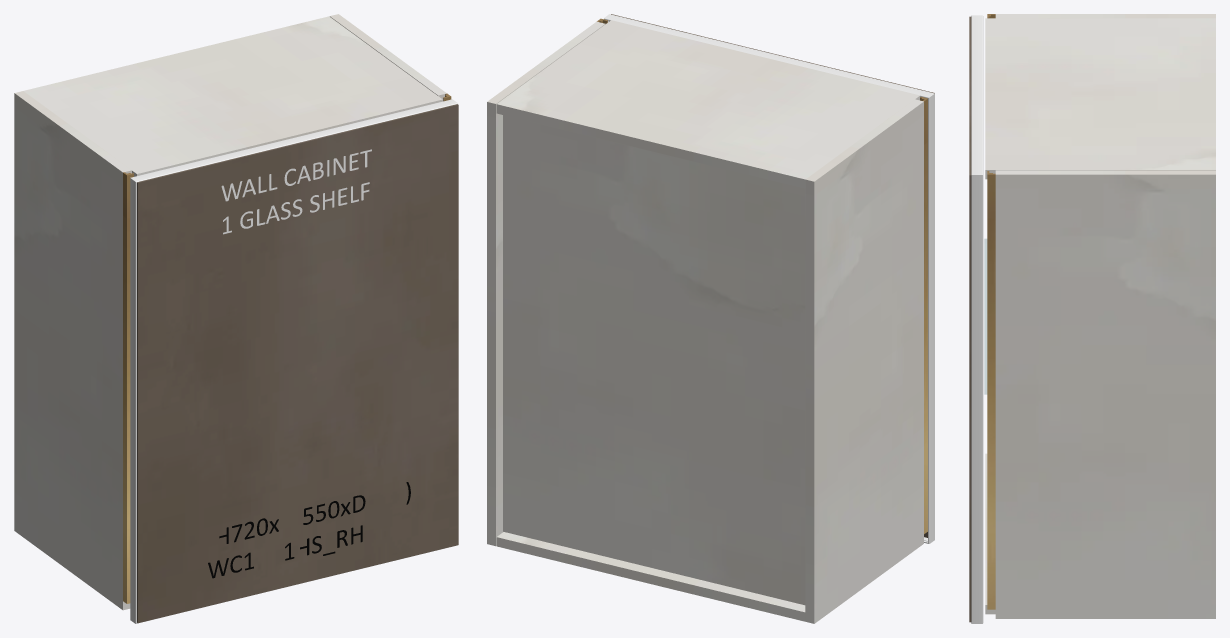
3 views of the same model, side by side, from view 1: azimuth 30°, elevation 25°; view 2: azimuth 150°, elevation 25°; view 3: azimuth 270°, elevation 25° (orthographic).
Size of what is drawn, in the model's own units: 0.55 by 0.7185 by 0.366.
Materials: 7 (3 with a texture image).
